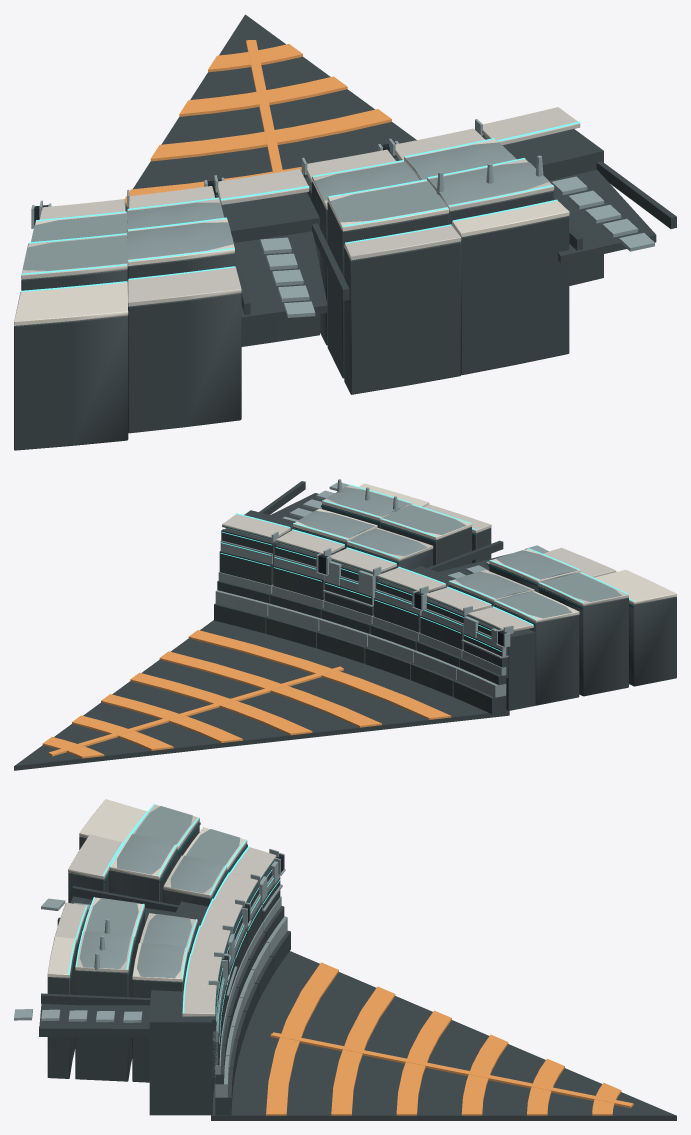
File: Weather_Lung_Sector_08.glb
The picture shows the model from 3 angles, top to bottom: view 1: azimuth 30°, elevation 25°; view 2: azimuth 150°, elevation 25°; view 3: azimuth 270°, elevation 25°; orthographic projection. The views are drawn at different scales.
Parts seen in each view (by area): view 1: Weather_Lung_Sector_08; view 2: Weather_Lung_Sector_08; view 3: Weather_Lung_Sector_08.
Part boxes in pixels (left/top/right/bottom): Weather_Lung_Sector_08: left=14, top=14, right=676, bottom=450; Weather_Lung_Sector_08: left=14, top=479, right=676, bottom=770; Weather_Lung_Sector_08: left=14, top=799, right=676, bottom=1120.
Size of the model in its own units: 6429 by 1785 by 8112.
